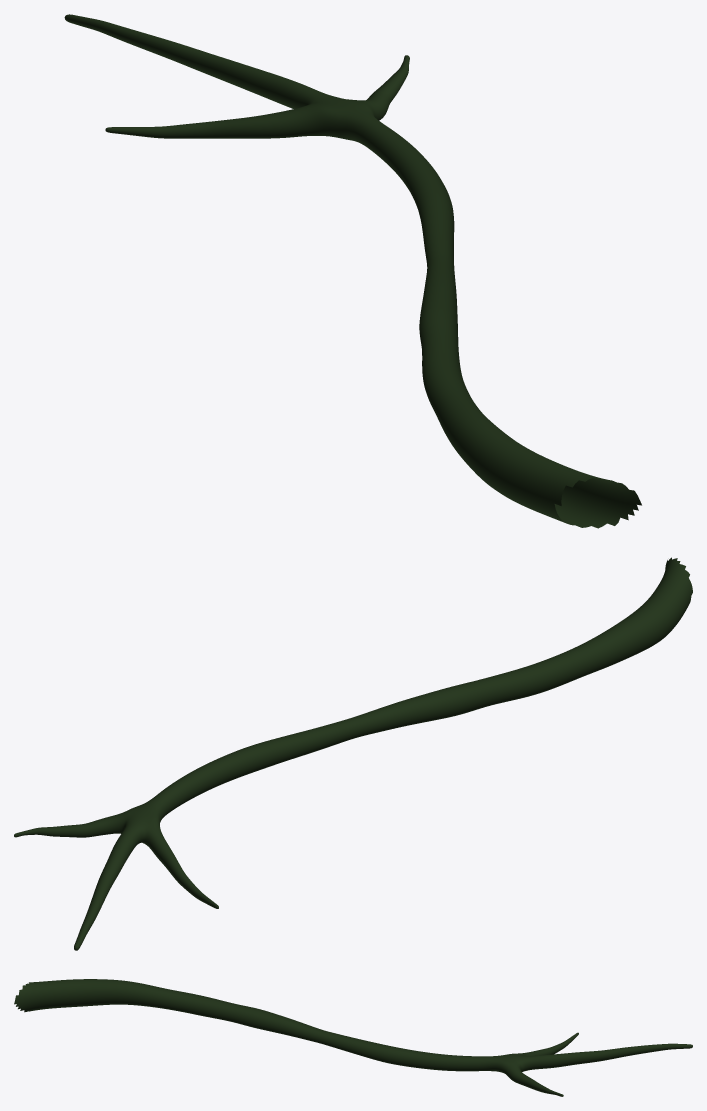
File: GrapeBossArmBridge.fbx
3 renders of one model, top to bottom at view 1: azimuth 30°, elevation 25°; view 2: azimuth 150°, elevation 25°; view 3: azimuth 270°, elevation 25°, orthographic. The views are drawn at different scales.
Visible parts, largest first — view 1: Body; view 2: Body; view 3: Body.
Boxes of the visible parts, x1=… form: Body: x1=64, y1=14, x2=641, y2=528; Body: x1=14, y1=557, x2=692, y2=950; Body: x1=14, y1=979, x2=692, y2=1096.
Bounding box in the file's own units: 138 × 26.07 × 413.
